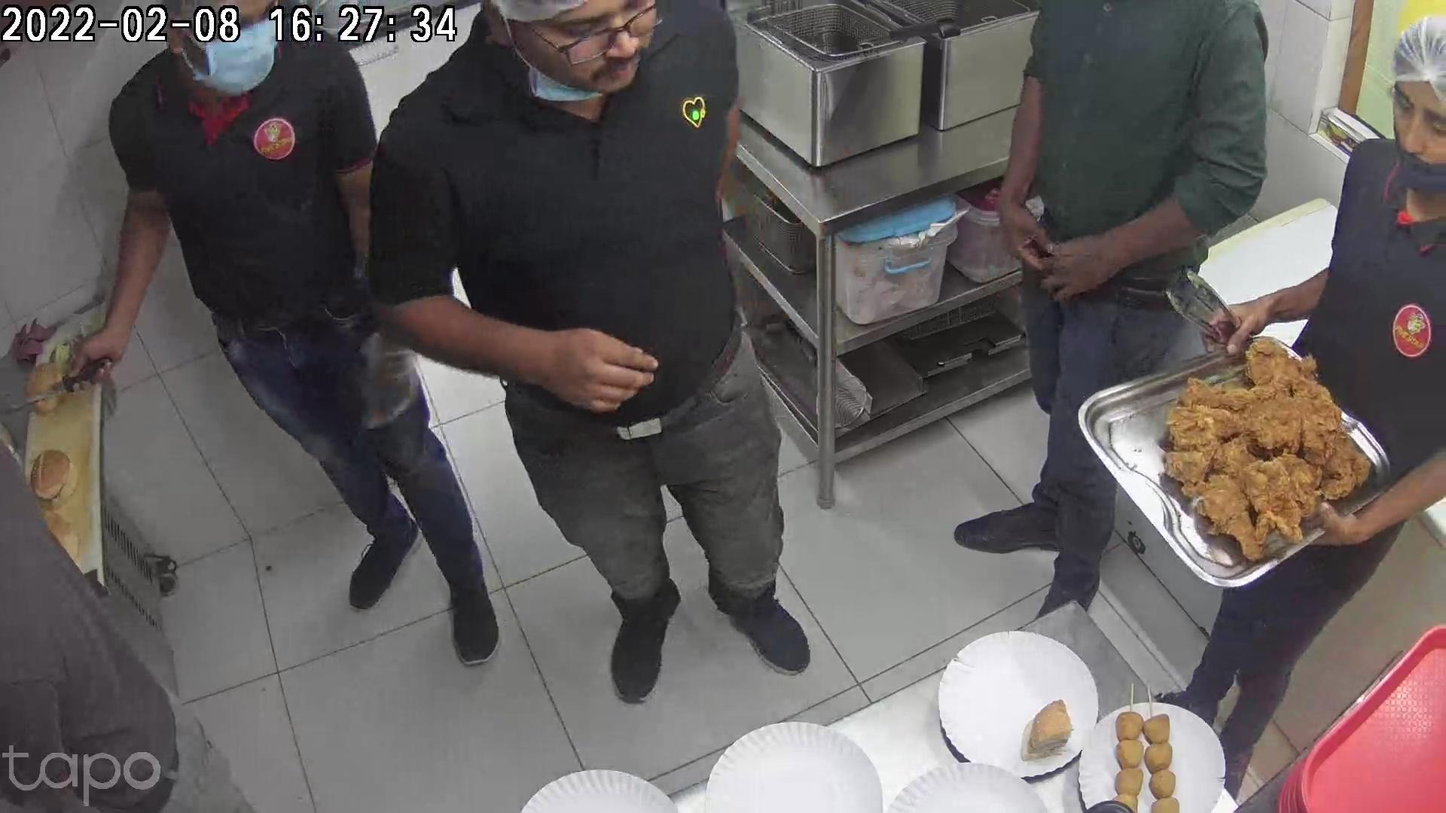no_gloves: (504, 324, 656, 413)
